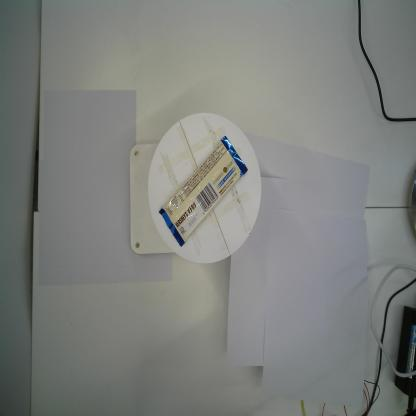Chocolate: (158, 136, 248, 247)
